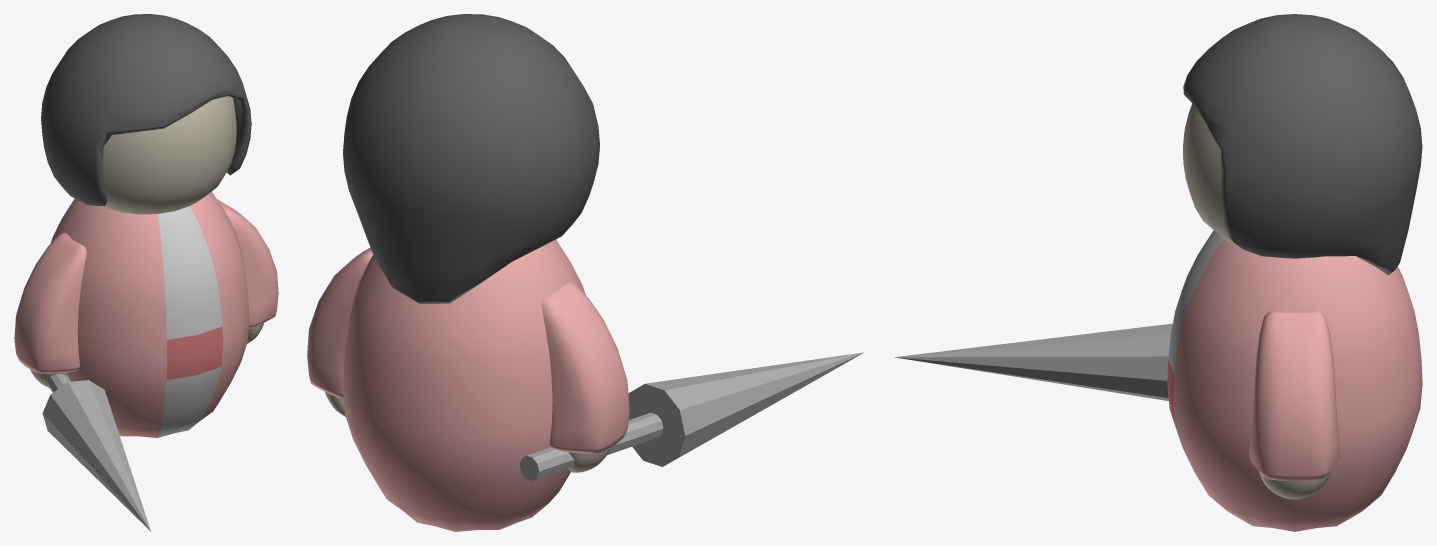
The model's file is SetsukoRigged_Umbrella.fbx.
The picture shows the model from 3 angles, left to right: view 1: azimuth 30°, elevation 25°; view 2: azimuth 150°, elevation 25°; view 3: azimuth 270°, elevation 25°; orthographic projection. The views are drawn at different scales.
Visible parts, largest first — view 1: Torso, Hair, Head, LeftArm1, pasted__pasted__pCylinder5, LeftArm; view 2: Hair, Torso, pasted__pasted__pCylinder5, LeftArm1, LeftArm; view 3: Hair, Torso, LeftArm, pasted__pasted__pCylinder5, Head.
Part boxes in pixels (box(x1,y1,x2,y2)): Torso: box(50, 192, 249, 437); Hair: box(41, 14, 251, 205); Head: box(102, 96, 236, 214); LeftArm1: box(14, 232, 86, 387); pasted__pasted__pCylinder5: box(42, 374, 150, 531); LeftArm: box(217, 199, 278, 343); Hair: box(343, 14, 599, 303); Torso: box(342, 239, 585, 531); pasted__pasted__pCylinder5: box(519, 352, 864, 480); LeftArm1: box(541, 281, 629, 472); LeftArm: box(307, 247, 372, 416); Hair: box(1183, 14, 1422, 275); Torso: box(1167, 230, 1422, 531); LeftArm: box(1249, 311, 1340, 499); pasted__pasted__pCylinder5: box(894, 323, 1172, 400); Head: box(1183, 103, 1317, 258).
Size of the model in its own units: 3.73 by 4.97 by 4.94.
